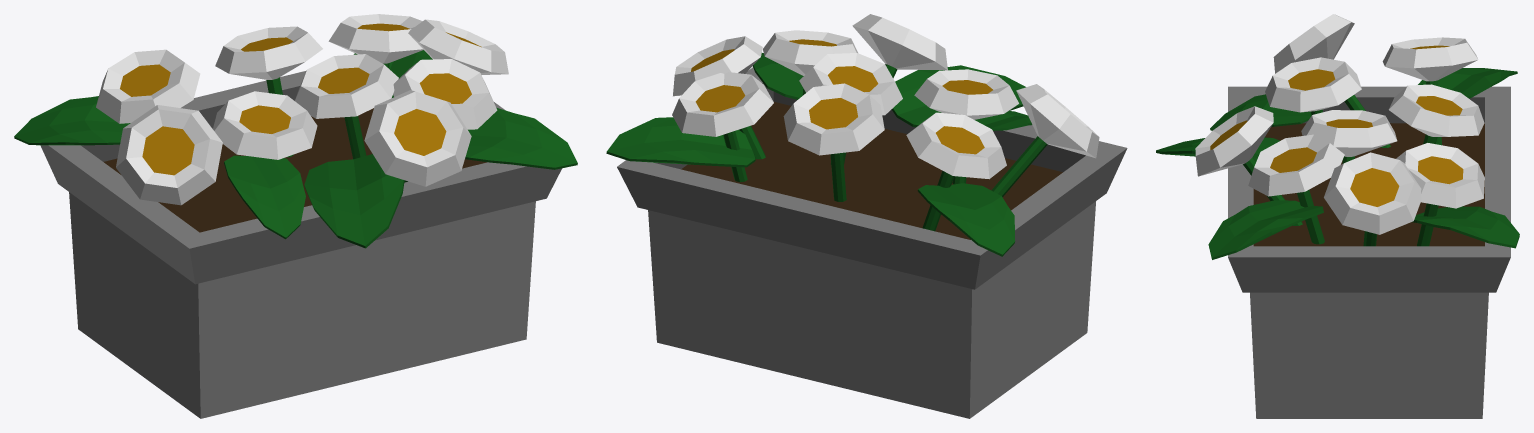
Rendered from Plant5.fbx.
3 renders of one model, left to right at view 1: azimuth 30°, elevation 25°; view 2: azimuth 150°, elevation 25°; view 3: azimuth 270°, elevation 25°, orthographic. The views are drawn at different scales.
Parts seen in each view (by area): view 1: Prop_Homeplant_06; view 2: Prop_Homeplant_06; view 3: Prop_Homeplant_06.
Part boxes in pixels (left/top/right/bottom): Prop_Homeplant_06: left=14, top=14, right=577, bottom=418; Prop_Homeplant_06: left=606, top=14, right=1127, bottom=418; Prop_Homeplant_06: left=1156, top=14, right=1519, bottom=418.
Bounding box in the file's own units: 36.29 × 23.49 × 30.01.
Materials: 1 (1 with a texture image).
